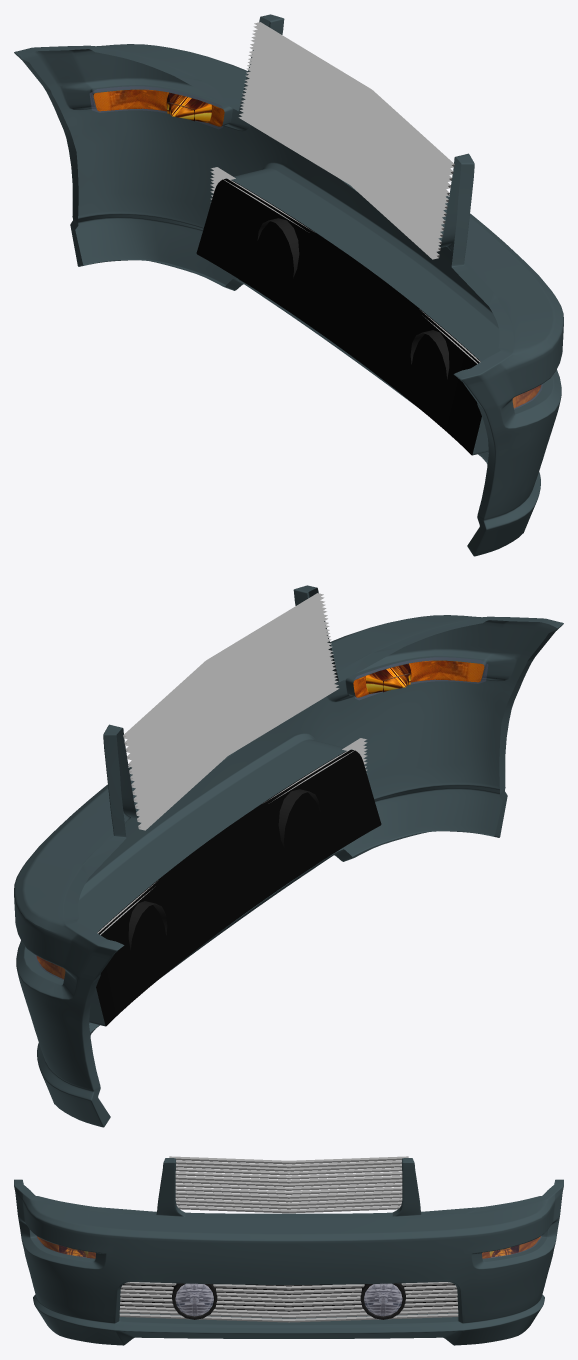
The picture shows the model from 3 angles, top to bottom: view 1: azimuth 30°, elevation 25°; view 2: azimuth 150°, elevation 25°; view 3: azimuth 270°, elevation 25°; orthographic projection. The views are drawn at different scales.
Visible parts, largest first — view 1: P222_15_021G_C_P222_15_021G_C_1_DaS_group1, P222_15_021G_C_P222_15_021G_C_4_D, P222_15_021G_C_P222_15_021G_C_5_DaS, P222_15_021G_C_2_N_P222_15_021G_C, P222_15_021G_C_P222_15_021G_C_6_D; view 2: P222_15_021G_C_P222_15_021G_C_1_DaS_group1, P222_15_021G_C_P222_15_021G_C_4_D, P222_15_021G_C_P222_15_021G_C_5_DaS, P222_15_021G_C_2_N_P222_15_021G_C, P222_15_021G_C_P222_15_021G_C_6_D; view 3: P222_15_021G_C_P222_15_021G_C_1_DaS_group1, P222_15_021G_C_P222_15_021G_C_5_DaS, P222_15_021G_C_2_N_P222_15_021G_C, P222_15_021G_C_P222_15_021G_C_4_D, P222_15_021G_C_P222_15_021G_C_7_DTaSI, P222_15_021G_C_P222_15_021G_C_8_DTaSI, P222_15_021G_C_P222_15_021G_C_6_D, P222_15_021G_C_P222_15_021G_C_3_DTaSI, P222_15_021G_C_P222_15_021G_C_9_DTaSI.
Boxes of the visible parts, x1,y1,x2,y2 form: P222_15_021G_C_P222_15_021G_C_1_DaS_group1: (14,14,563,556); P222_15_021G_C_P222_15_021G_C_4_D: (196,179,481,455); P222_15_021G_C_P222_15_021G_C_5_DaS: (210,22,480,363); P222_15_021G_C_2_N_P222_15_021G_C: (93,89,541,407); P222_15_021G_C_P222_15_021G_C_6_D: (257,218,449,379); P222_15_021G_C_P222_15_021G_C_1_DaS_group1: (14,585,563,1127); P222_15_021G_C_P222_15_021G_C_4_D: (96,750,381,1026); P222_15_021G_C_P222_15_021G_C_5_DaS: (97,593,367,934); P222_15_021G_C_2_N_P222_15_021G_C: (36,660,484,978); P222_15_021G_C_P222_15_021G_C_6_D: (128,789,320,950); P222_15_021G_C_P222_15_021G_C_1_DaS_group1: (14,1158,563,1345); P222_15_021G_C_P222_15_021G_C_5_DaS: (119,1156,458,1322); P222_15_021G_C_2_N_P222_15_021G_C: (37,1236,540,1316); P222_15_021G_C_P222_15_021G_C_4_D: (120,1284,457,1311); P222_15_021G_C_P222_15_021G_C_7_DTaSI: (364,1284,402,1316); P222_15_021G_C_P222_15_021G_C_8_DTaSI: (175,1284,213,1316); P222_15_021G_C_P222_15_021G_C_6_D: (172,1283,405,1319); P222_15_021G_C_P222_15_021G_C_3_DTaSI: (482,1236,541,1258); P222_15_021G_C_P222_15_021G_C_9_DTaSI: (36,1236,95,1258).
Size of the model in its own units: 41.8 by 64.12 by 172.
